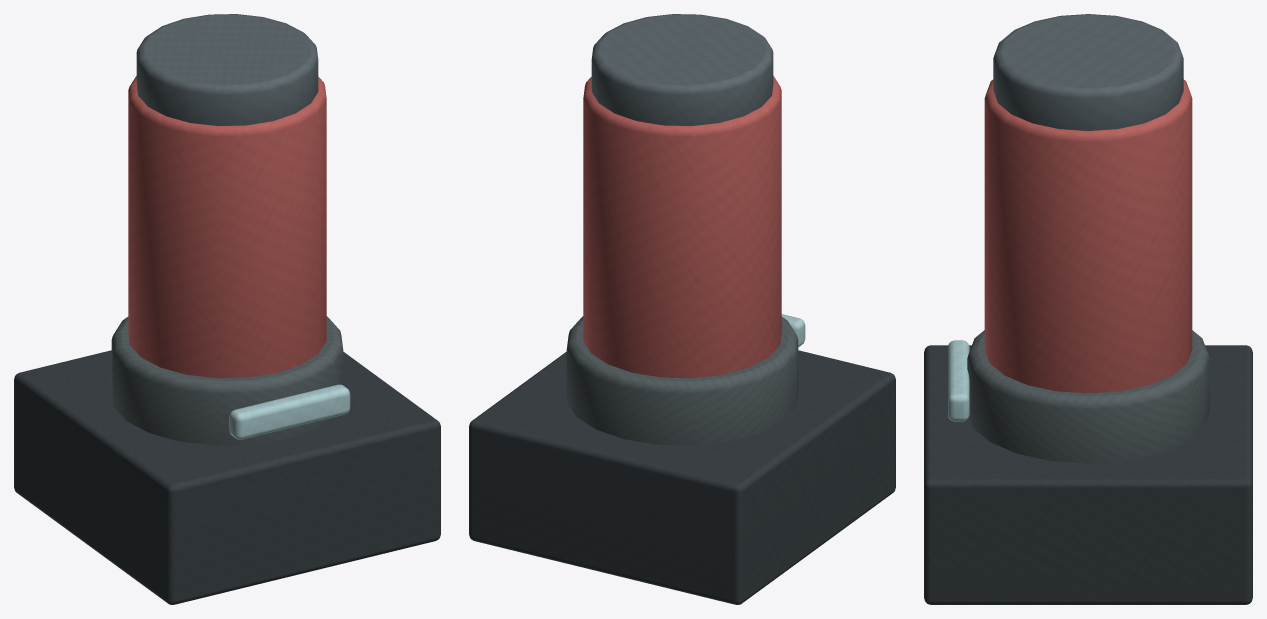
File: WarningBeacon.fbx
3 renders of one model, left to right at view 1: azimuth 30°, elevation 25°; view 2: azimuth 150°, elevation 25°; view 3: azimuth 270°, elevation 25°, orthographic. The views are drawn at different scales.
Parts seen in each view (by area): view 1: WarningBeacon_Mesh; view 2: WarningBeacon_Mesh; view 3: WarningBeacon_Mesh.
Part boxes in pixels (<box>): WarningBeacon_Mesh: <box>14,14,440,604</box>; WarningBeacon_Mesh: <box>469,14,895,604</box>; WarningBeacon_Mesh: <box>924,14,1252,604</box>.
Size of the model in its own units: 38 by 62 by 38.
